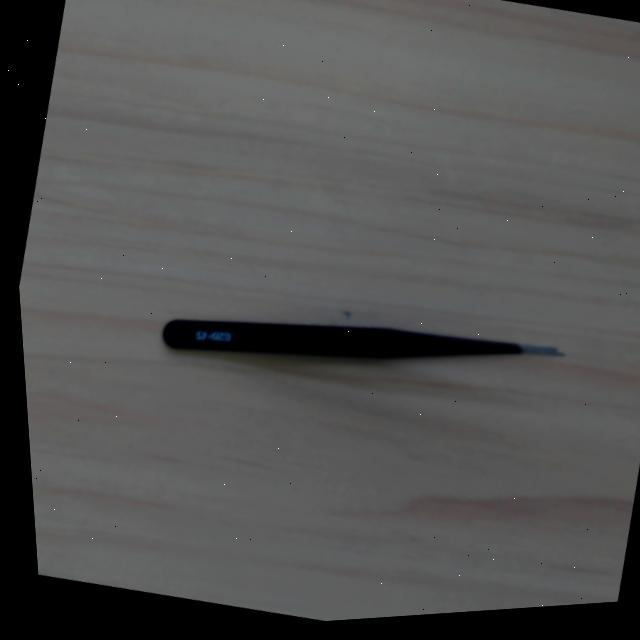Tweezers: (162, 319, 561, 367)
